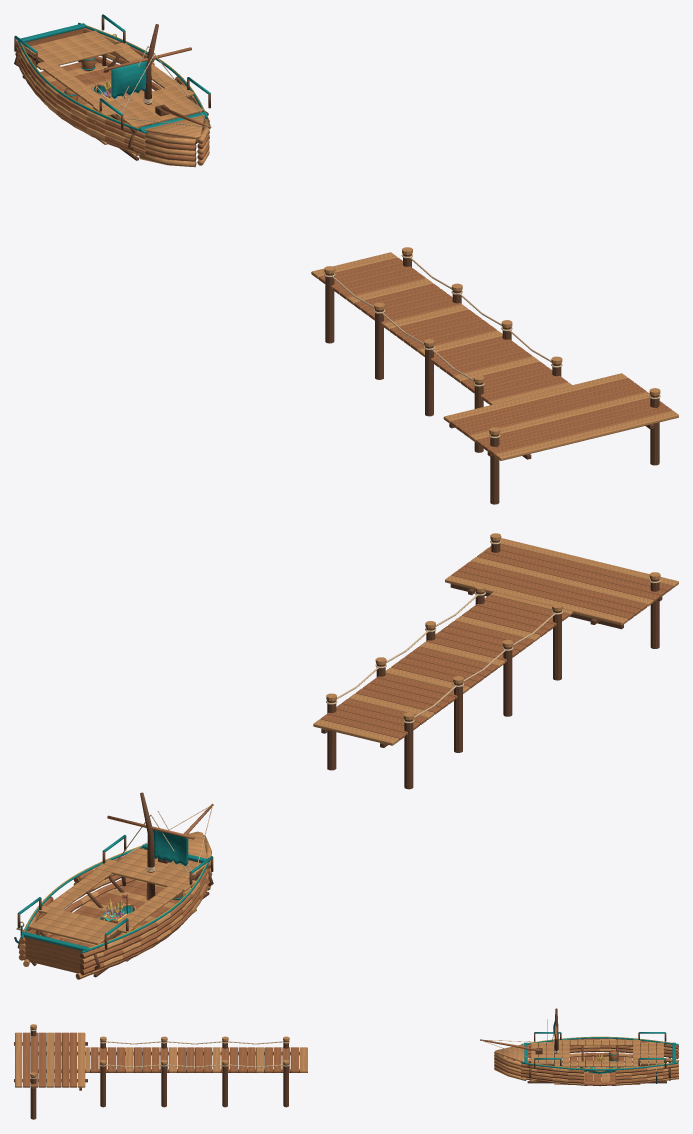
The model's file is SuckTheSea_VisualPolish.fbx.
The picture shows the model from 3 angles, top to bottom: view 1: azimuth 30°, elevation 25°; view 2: azimuth 150°, elevation 25°; view 3: azimuth 270°, elevation 25°; orthographic projection. The views are drawn at different scales.
Visible parts, largest first — view 1: Dock__PierBoard, Dock__PierHead, Ship__Deck, Dock__PierPile, Ship__HullPort, Ship__Bow, Ship__Railings, Ship__MaritimeDetails, Ship__Sail, Ship__Mast, Dock__PierCap; view 2: Dock__PierBoard, Dock__PierHead, Ship__Deck, Dock__PierPile, Ship__HullPort, Ship__Railings, Ship__HullStarboard, Ship__MaritimeDetails, Ship__Mast, Ship__Sail, Dock__PierCap, Dock__SafetyRope; view 3: Dock__PierBoard, Dock__PierHead, Ship__Deck, Ship__HullStarboard, Dock__PierPile, Ship__HullPort, Ship__Bow, Ship__MaritimeDetails, Dock__SafetyRope, Ship__Railings, Dock__Understructure, Ship__Bowsprit (+2 smaller).
Boxes of the visible parts, left/top/right/bottom form: Dock__PierBoard: left=311, top=252, right=571, bottom=405; Dock__PierHead: left=443, top=373, right=678, bottom=460; Ship__Deck: left=21, top=30, right=208, bottom=160; Dock__PierPile: left=325, top=254, right=659, bottom=504; Ship__HullPort: left=14, top=40, right=146, bottom=155; Ship__Bow: left=139, top=115, right=209, bottom=167; Ship__Railings: left=14, top=14, right=210, bottom=142; Ship__MaritimeDetails: left=18, top=23, right=207, bottom=136; Ship__Sail: left=111, top=61, right=147, bottom=98; Ship__Mast: left=104, top=24, right=191, bottom=126; Dock__PierCap: left=324, top=247, right=660, bottom=434; Dock__PierBoard: left=313, top=592, right=572, bottom=745; Dock__PierHead: left=445, top=538, right=678, bottom=625; Ship__Deck: left=26, top=847, right=210, bottom=977; Dock__PierPile: left=327, top=540, right=659, bottom=789; Ship__HullPort: left=75, top=860, right=213, bottom=979; Ship__Railings: left=17, top=835, right=213, bottom=973; Ship__HullStarboard: left=17, top=848, right=143, bottom=966; Ship__MaritimeDetails: left=14, top=811, right=209, bottom=956; Ship__Mast: left=107, top=792, right=194, bottom=900; Ship__Sail: left=153, top=829, right=188, bottom=866; Dock__PierCap: left=326, top=533, right=660, bottom=719; Dock__SafetyRope: left=337, top=594, right=555, bottom=717; Dock__PierBoard: left=85, top=1047, right=307, bottom=1072; Dock__PierHead: left=15, top=1032, right=85, bottom=1087; Ship__Deck: left=527, top=1039, right=666, bottom=1084; Ship__HullStarboard: left=521, top=1063, right=678, bottom=1086; Dock__PierPile: left=30, top=1028, right=288, bottom=1119; Ship__HullPort: left=527, top=1038, right=678, bottom=1062; Ship__Bow: left=494, top=1044, right=526, bottom=1080; Ship__MaritimeDetails: left=521, top=1019, right=678, bottom=1083; Dock__SafetyRope: left=106, top=1041, right=282, bottom=1067; Ship__Railings: left=524, top=1032, right=675, bottom=1077; Dock__Understructure: left=14, top=1042, right=307, bottom=1090; Ship__Bowsprit: left=480, top=1039, right=547, bottom=1064.
Size of the model in its own units: 29 by 22.36 by 153.
1 material, 1 textured.
